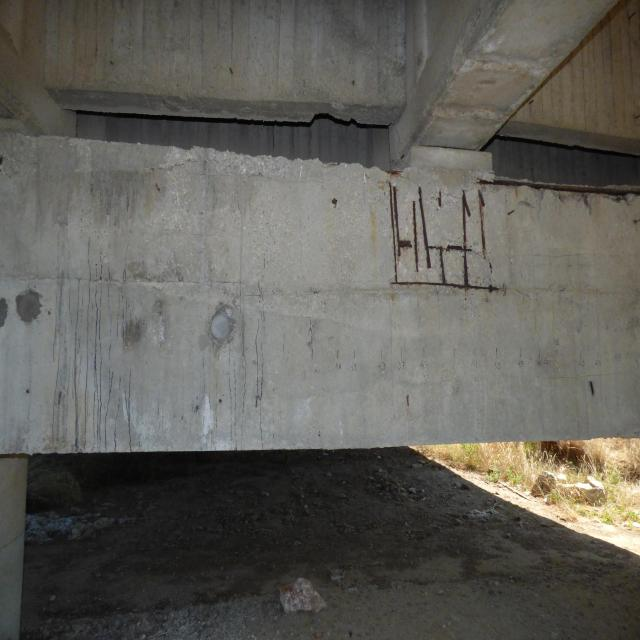Rebar: (383, 166, 640, 300)
concrete spalling: (150, 146, 292, 181)
horizontal crack: (458, 53, 552, 70)
